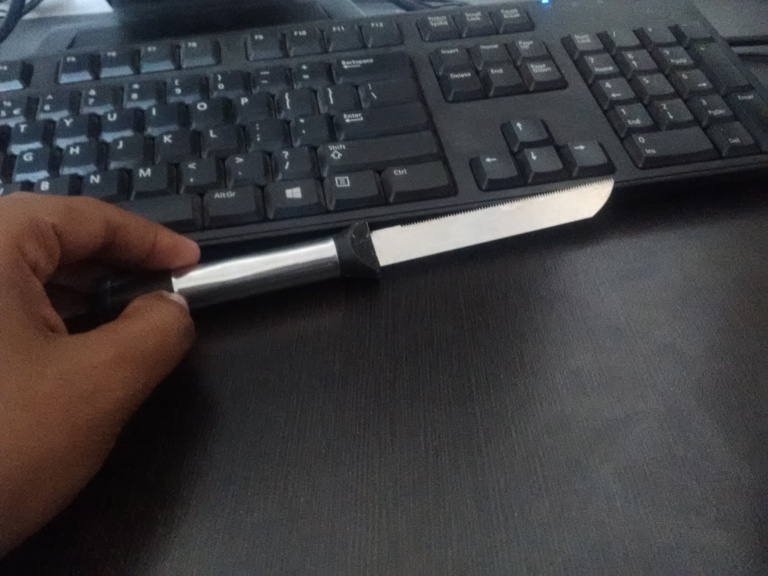knife: (169, 178, 615, 316)
